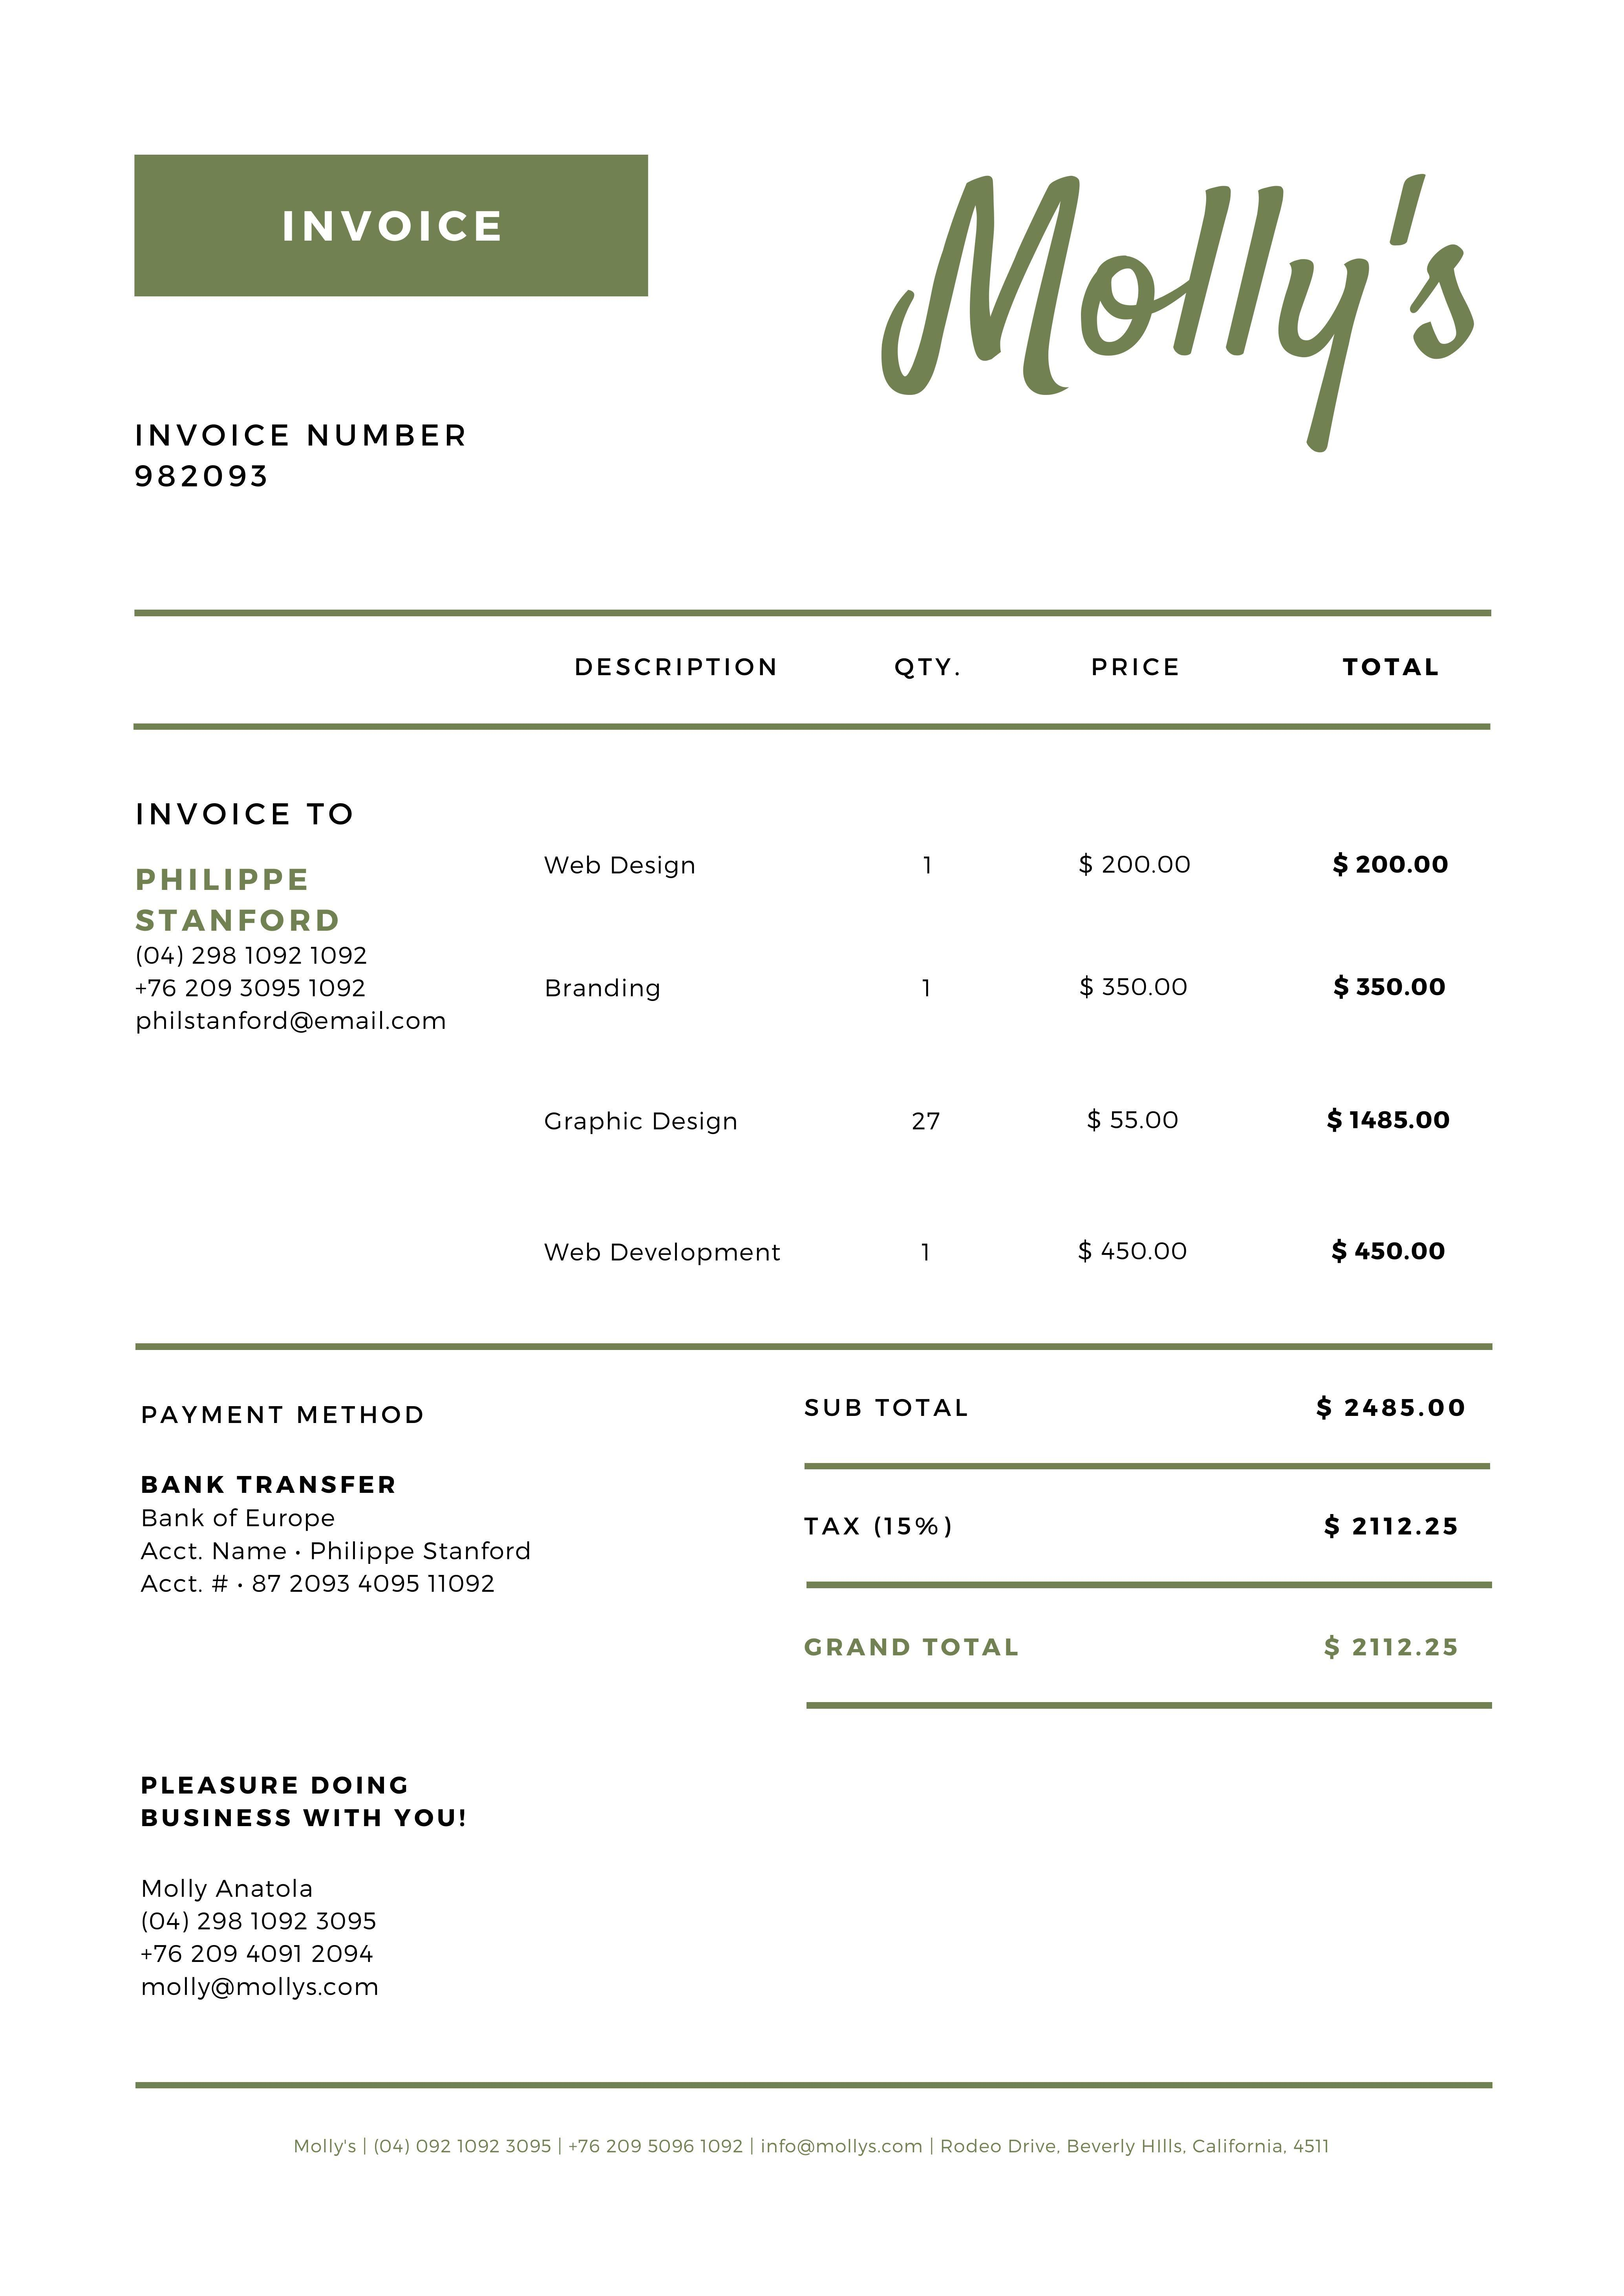ROI: (132, 612, 1518, 1323), (797, 1384, 1500, 1714), (118, 1455, 573, 1615), (100, 387, 560, 523), (130, 1863, 416, 2022)
